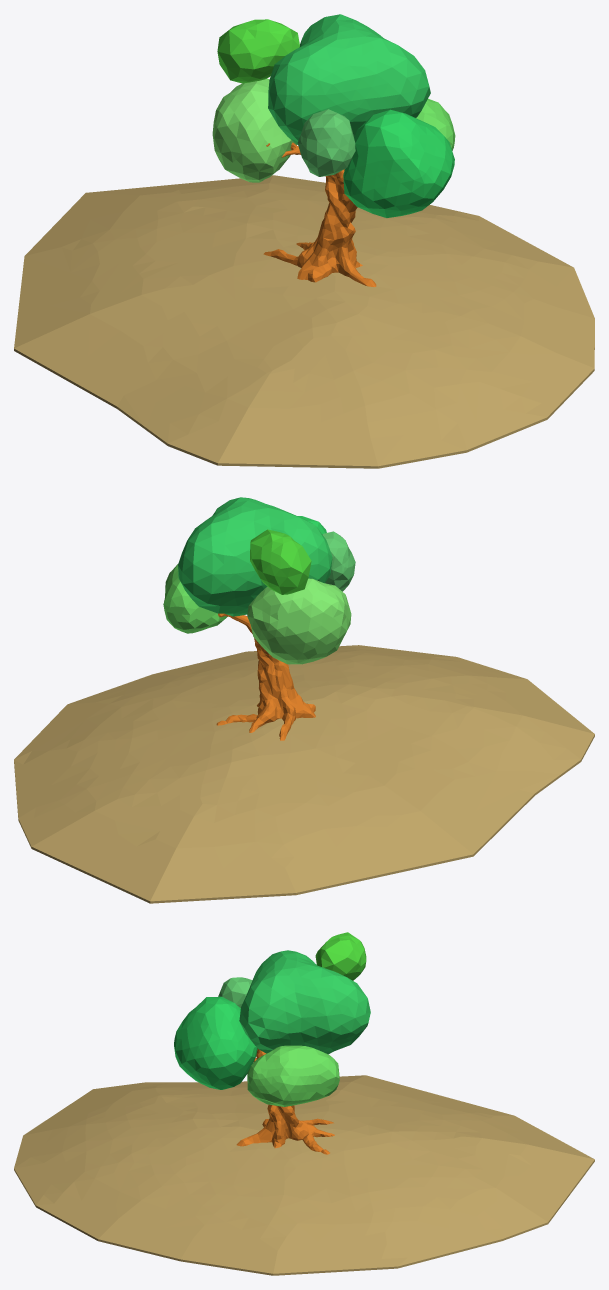
Rendered from coral.glb.
3 views of the same model, one above another, from view 1: azimuth 30°, elevation 25°; view 2: azimuth 150°, elevation 25°; view 3: azimuth 270°, elevation 25° (orthographic). The views are drawn at different scales.
Visible parts, largest first — view 1: MeshBody20, Main, Back, Right, Trunk, Small Branch 2, Small Branch 1, Left; view 2: MeshBody20, Main, Right, Trunk, Small Branch 2, Left, Small Branch 1; view 3: MeshBody20, Main, Back, Left, Trunk, Small Branch 2, Small Branch 1.
Part boxes in pixels (x1=…): MeshBody20: x1=14, y1=175, x2=594, y2=468; Main: x1=268, y1=14, x2=430, y2=144; Back: x1=343, y1=109, x2=454, y2=217; Right: x1=212, y1=78, x2=297, y2=182; Trunk: x1=263, y1=142, x2=376, y2=286; Small Branch 2: x1=217, y1=19, x2=299, y2=83; Small Branch 1: x1=297, y1=109, x2=355, y2=176; Left: x1=416, y1=98, x2=455, y2=150; MeshBody20: x1=14, y1=645, x2=594, y2=903; Main: x1=178, y1=497, x2=332, y2=616; Right: x1=247, y1=578, x2=351, y2=664; Trunk: x1=216, y1=613, x2=315, y2=740; Small Branch 2: x1=250, y1=529, x2=311, y2=594; Left: x1=163, y1=564, x2=227, y2=633; Small Branch 1: x1=322, y1=531, x2=355, y2=591; MeshBody20: x1=14, y1=1075, x2=594, y2=1275; Main: x1=239, y1=950, x2=370, y2=1054; Back: x1=174, y1=996, x2=257, y2=1089; Left: x1=247, y1=1045, x2=339, y2=1106; Trunk: x1=236, y1=1048, x2=334, y2=1154; Small Branch 2: x1=315, y1=932, x2=366, y2=980; Small Branch 1: x1=218, y1=977, x2=252, y2=1008.
Size of the model in its own units: 1068 by 578 by 1321.
